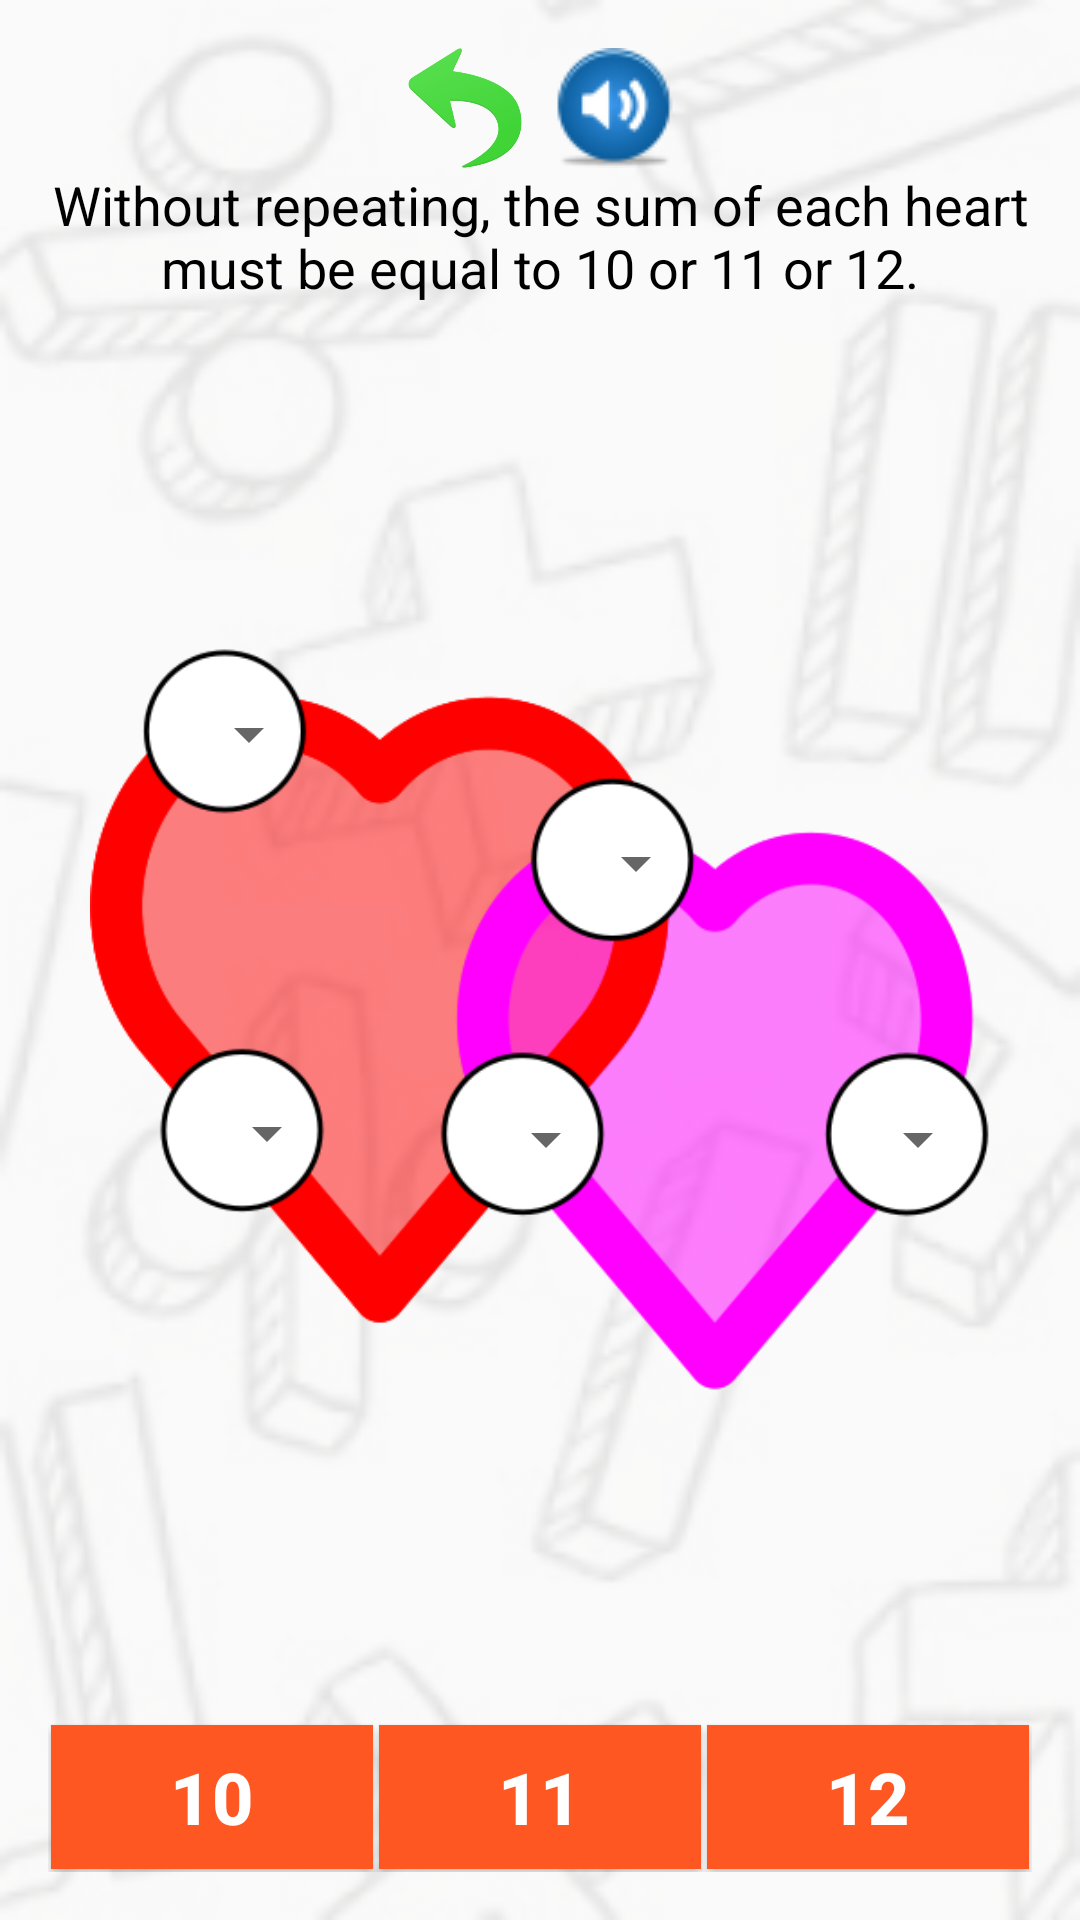

Named icons in this screenshot (1080 x 1920) and their bounding boxes, BBox(x1, y1, x2, y2):
som: BBox(557, 48, 672, 166)
voltar: BBox(408, 48, 522, 168)
